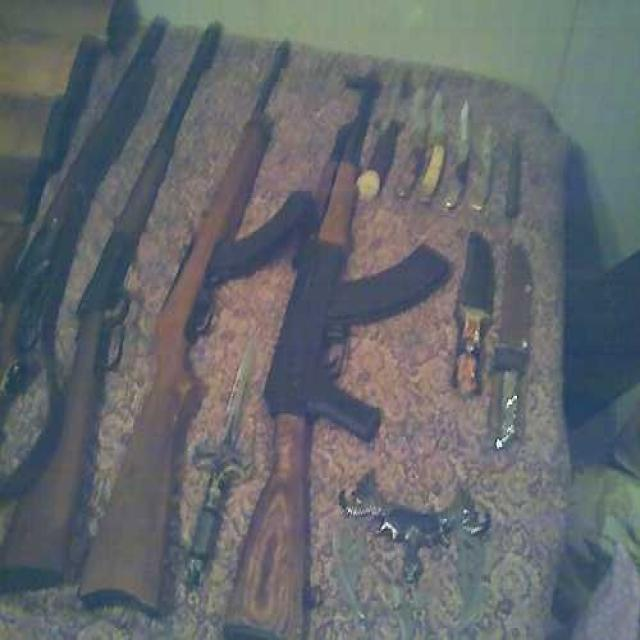heavyweapon: (229, 59, 503, 640), (82, 29, 325, 640), (1, 3, 237, 603), (1, 10, 180, 440)
